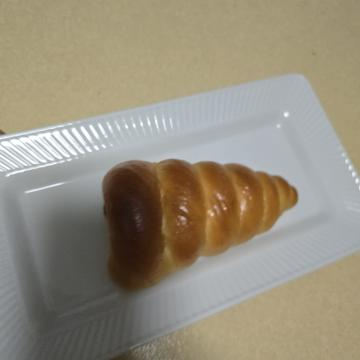cream horn: (144, 51, 313, 276)
